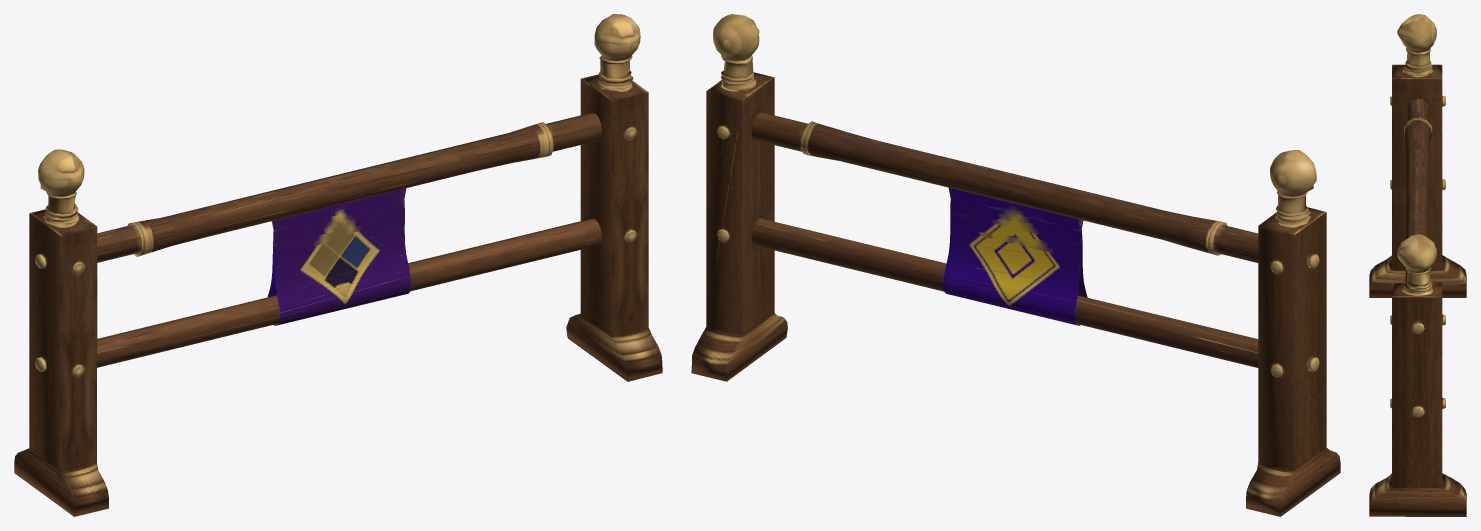
The model's file is track-barrier.glb.
3 renders of one model, left to right at view 1: azimuth 30°, elevation 25°; view 2: azimuth 150°, elevation 25°; view 3: azimuth 270°, elevation 25°, orthographic. The views are drawn at different scales.
Bounding box in the file's own units: 0.9487 × 0.5117 × 0.1641.
1 material, 1 textured.
